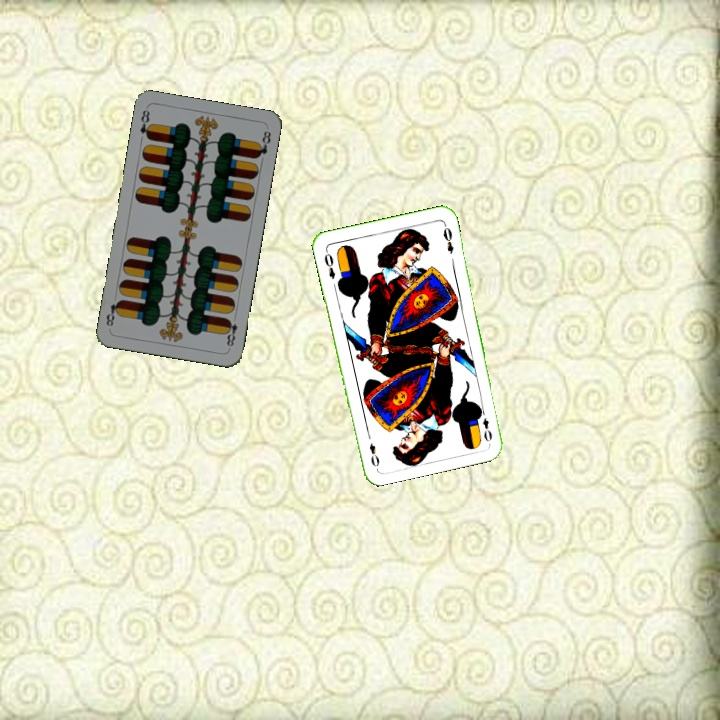E8: (221, 311, 240, 351), (136, 106, 155, 142)
EO: (320, 246, 338, 282), (478, 414, 494, 444)
